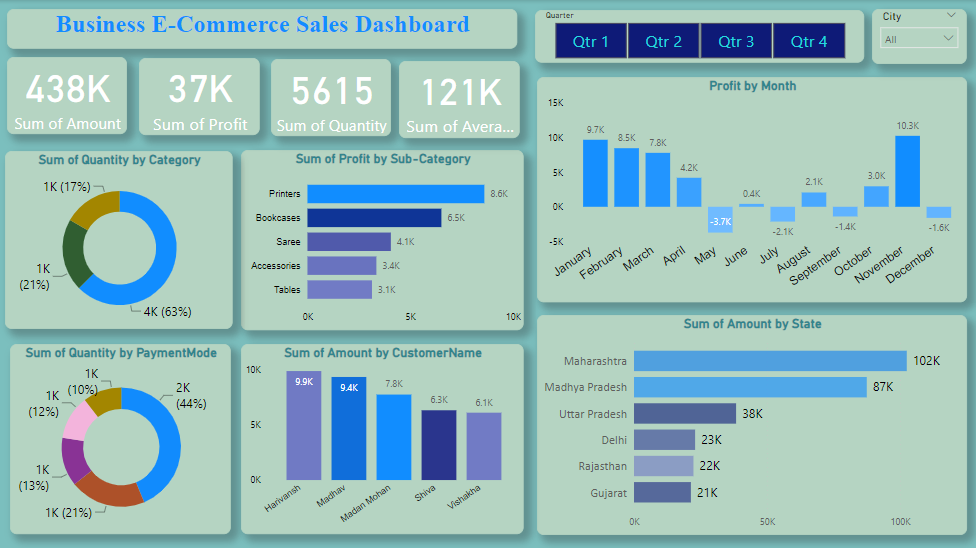

The dashboard page shown, as its layout file describes it:
{"tool":"powerbi","page":{"name":"Page 1","canvas":[1280,720],"ordinal":0},"visuals":[{"type":"textbox","box":[10.1,11.5,668.2,51.8],"z":0},{"type":"columnChart","title":"Profit by Month","fields":{"Y":["orders.Profit"],"Category":["details.Order Date.Variation.Date Hierarchy.Month"]},"box":[704.2,100.8,563,295.2],"z":1000},{"type":"barChart","fields":{"Y":["orders.Profit"],"Category":["orders.Sub-Category"]},"box":[316.8,195.8,370.1,236.2],"z":2000},{"type":"donutChart","fields":{"Category":["orders.Category"],"Y":["orders.Quantity"]},"box":[7.2,197.3,298.1,233.3],"z":3000},{"type":"donutChart","fields":{"Y":["orders.Quantity"],"Category":["orders.PaymentMode"]},"box":[14.4,450.7,289.4,249.1],"z":4000},{"type":"card","fields":{"Values":["orders.Amount"]},"box":[10.1,74.9,157,100.8],"z":5000},{"type":"card","fields":{"Values":["orders.Profit"]},"box":[182.9,76.3,158.4,100.8],"z":6000},{"type":"card","fields":{"Values":["orders.Quantity"]},"box":[355.7,77.8,157,100.8],"z":7000},{"type":"card","fields":{"Values":["orders.ADV"]},"box":[524.2,79.2,158.4,100.8],"z":8000},{"type":"barChart","fields":{"Category":["details.State"],"Y":["orders.Amount"]},"box":[704.2,411.8,563,288],"z":9000},{"type":"columnChart","fields":{"Category":["details.CustomerName"],"Y":["orders.Amount"]},"box":[316.8,450.7,370.1,249.1],"z":10000},{"type":"slicer","fields":{"Values":["details.Order Date.Variation.Date Hierarchy.Quarter"]},"box":[701.3,13,430.6,69.1],"z":11000},{"type":"slicer","fields":{"Values":["details.City"]},"box":[1143.4,11.5,123.8,72],"z":12000}]}

Visuals, with their boxes in screenshot pixels (x1, y1, x2, y2), scaled from the page's 1280x720 canvas onto the 976x548 screenshot:
textbox: bbox(8, 9, 517, 48)
"Profit by Month" columnChart: bbox(537, 77, 966, 301)
barChart - orders.Profit x orders.Sub-Category: bbox(242, 149, 524, 329)
donutChart - orders.Category x orders.Quantity: bbox(5, 150, 233, 328)
donutChart - orders.Quantity x orders.PaymentMode: bbox(11, 343, 232, 533)
card - orders.Amount: bbox(8, 57, 127, 134)
card - orders.Profit: bbox(139, 58, 260, 135)
card - orders.Quantity: bbox(271, 59, 391, 136)
card - orders.ADV: bbox(400, 60, 520, 137)
barChart - details.State x orders.Amount: bbox(537, 313, 966, 533)
columnChart - details.CustomerName x orders.Amount: bbox(242, 343, 524, 533)
slicer - details.Order Date.Variation.Date Hierarchy.Quarter: bbox(535, 10, 863, 62)
slicer - details.City: bbox(872, 9, 966, 64)
